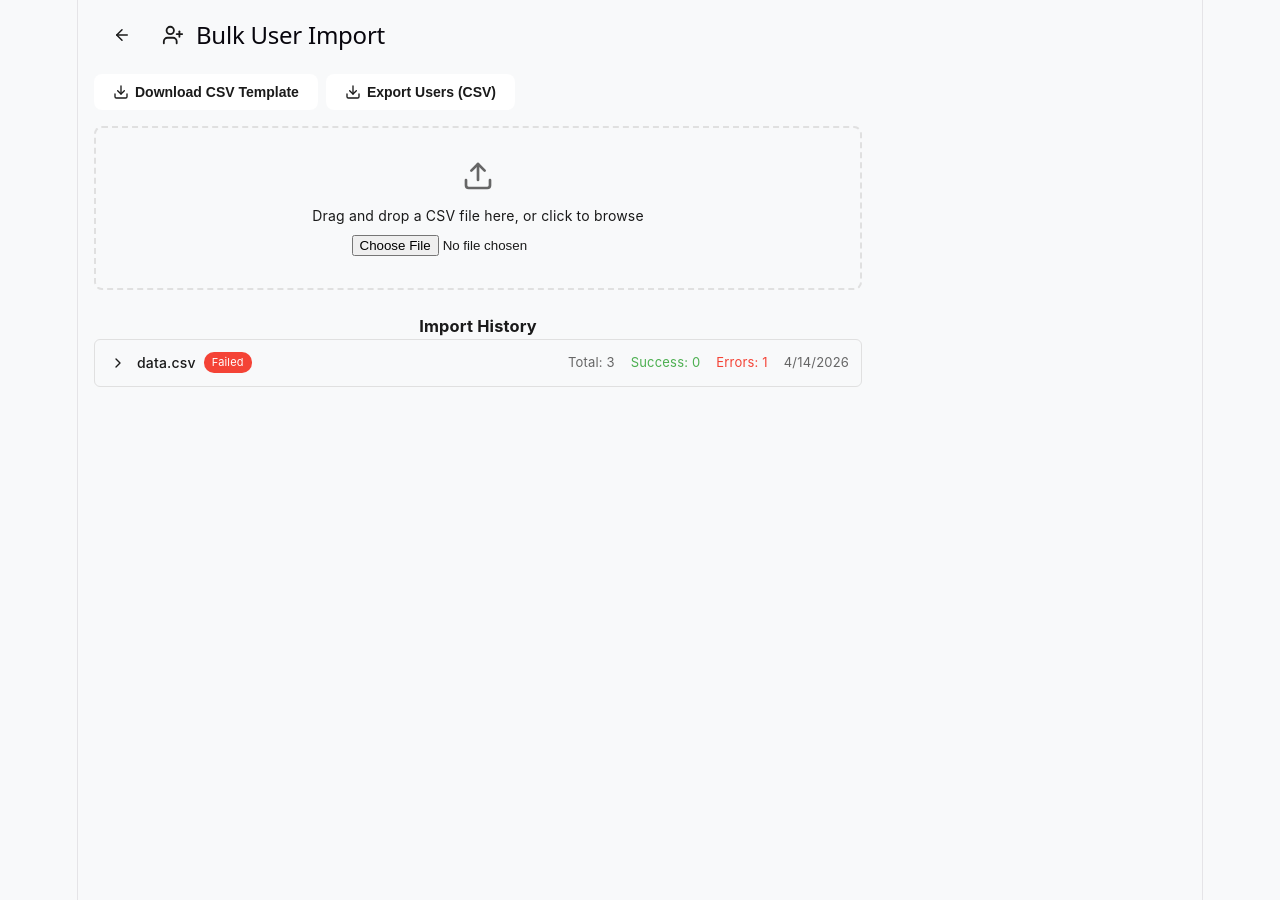
Scenario: BulkImportManager › shows row-level error details with field and message
This screenshot has width=1280, height=900.
Click the button titled "Toggle errors" at coordinates (118, 363), box [107,352,129,374]
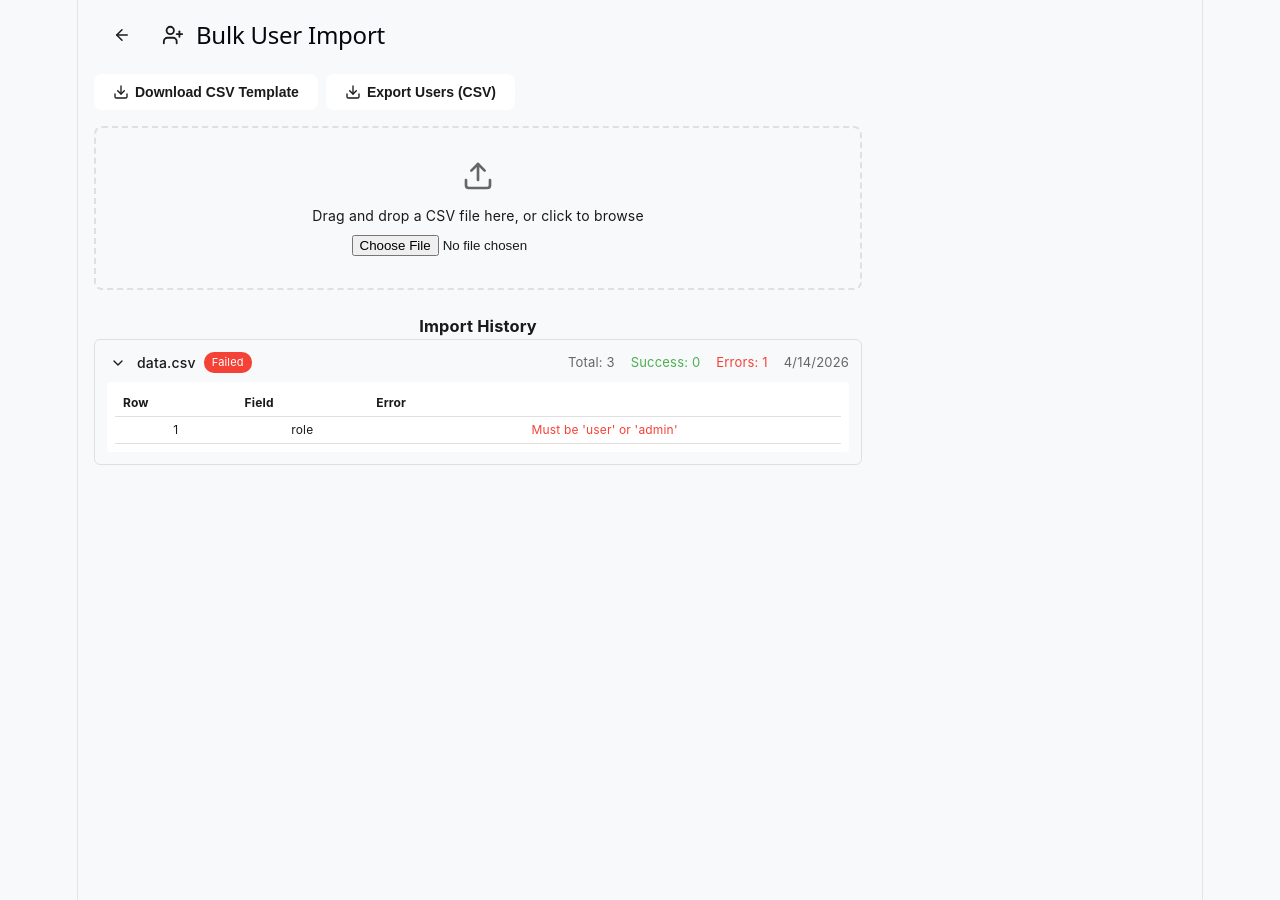
Now the text "role" is shown, box [236,416,368,443]
Now the text "Must be 'user' or 'admin'" is shown, box [368,416,841,443]
